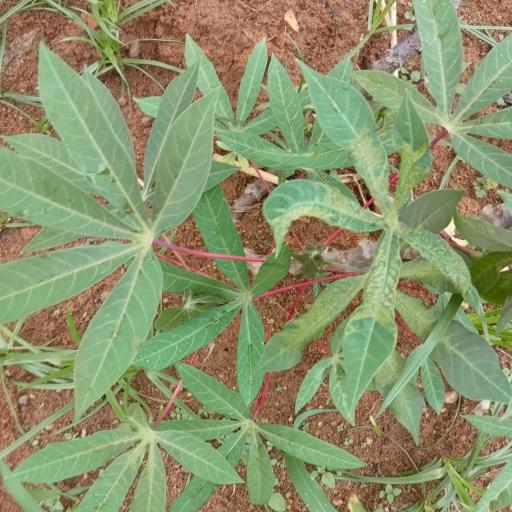Cassava_Mosaic: (0, 42, 227, 389), (264, 66, 482, 406), (20, 407, 236, 512)
